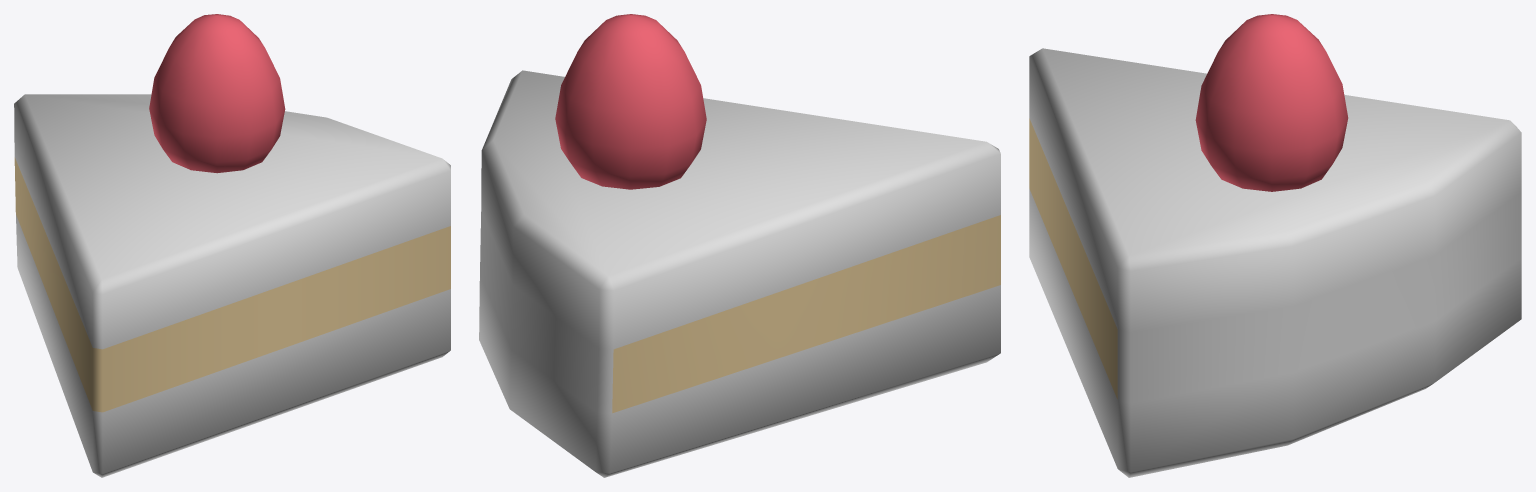
File: x_cake_bebel_smooth 3.fbx
The picture shows the model from 3 angles, left to right: view 1: azimuth 30°, elevation 25°; view 2: azimuth 150°, elevation 25°; view 3: azimuth 270°, elevation 25°; orthographic projection. The views are drawn at different scales.
Visible parts, largest first — view 1: Circle, Sphere; view 2: Circle, Sphere; view 3: Circle, Sphere.
Part boxes in pixels (bbox=[...]): Circle: bbox=[14, 94, 450, 477]; Sphere: bbox=[149, 14, 285, 173]; Circle: bbox=[479, 70, 1000, 477]; Sphere: bbox=[555, 14, 706, 189]; Circle: bbox=[1029, 48, 1521, 477]; Sphere: bbox=[1195, 14, 1348, 191].
Size of the model in its own units: 105 by 83.81 by 100.
